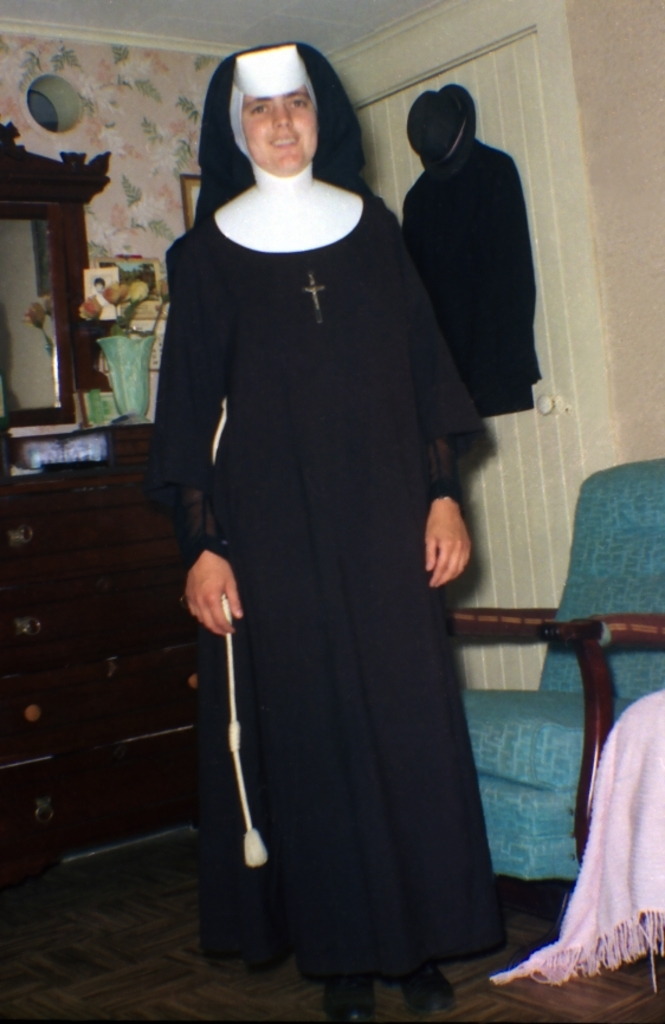person: (399, 83, 544, 470)
